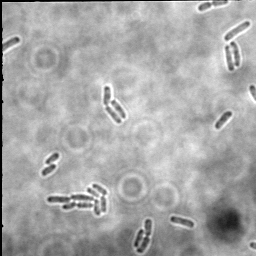Dividing: (102, 85, 123, 124), (137, 218, 154, 254), (198, 1, 229, 13)
Microcolony: (47, 182, 108, 216)
Rod: (224, 20, 251, 42), (214, 110, 234, 131), (111, 98, 127, 120), (170, 215, 195, 229), (230, 40, 242, 68), (224, 45, 236, 72), (133, 228, 146, 248), (45, 151, 60, 165), (41, 164, 57, 177)
